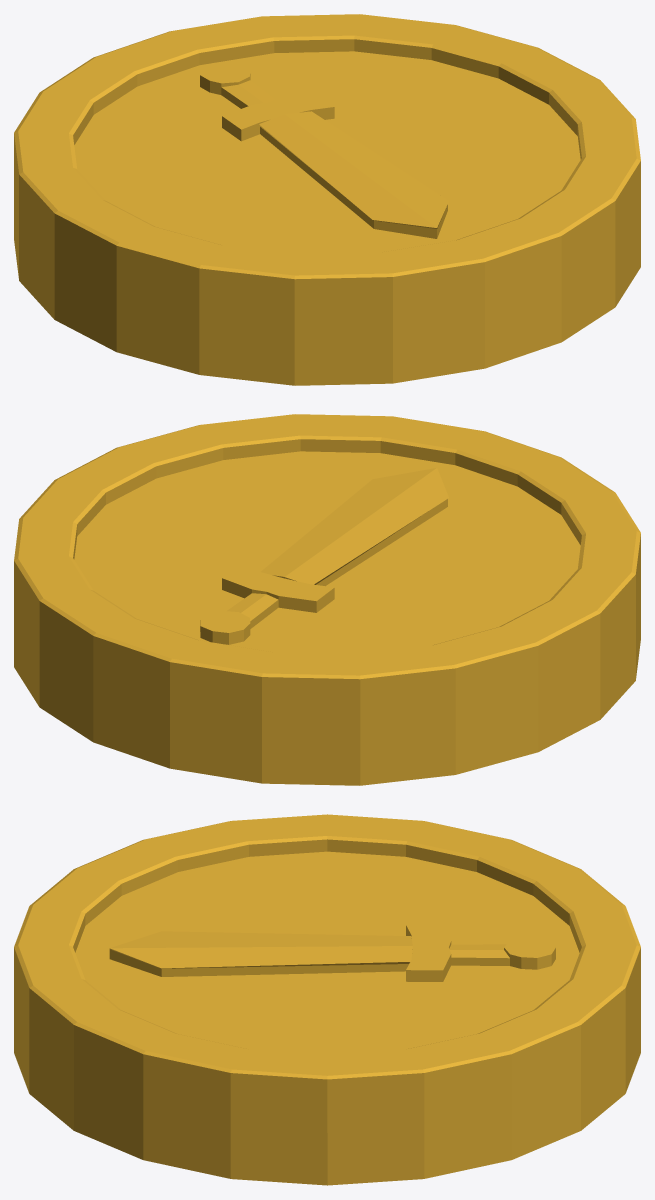
Rendered from coin_updated.fbx.
The picture shows the model from 3 angles, top to bottom: view 1: azimuth 30°, elevation 25°; view 2: azimuth 150°, elevation 25°; view 3: azimuth 270°, elevation 25°; orthographic projection.
Visible parts, largest first — view 1: Cylinder; view 2: Cylinder; view 3: Cylinder.
Part boxes in pixels (x1,y1,x2,y2): Cylinder: (14, 14, 640, 385); Cylinder: (14, 414, 640, 785); Cylinder: (14, 814, 640, 1185).
Bounding box in the file's own units: 211 × 40.64 × 211.
